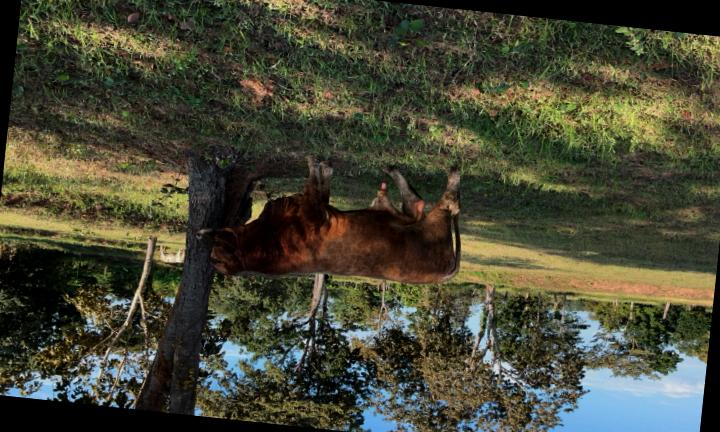Charolais: (196, 157, 460, 284)
